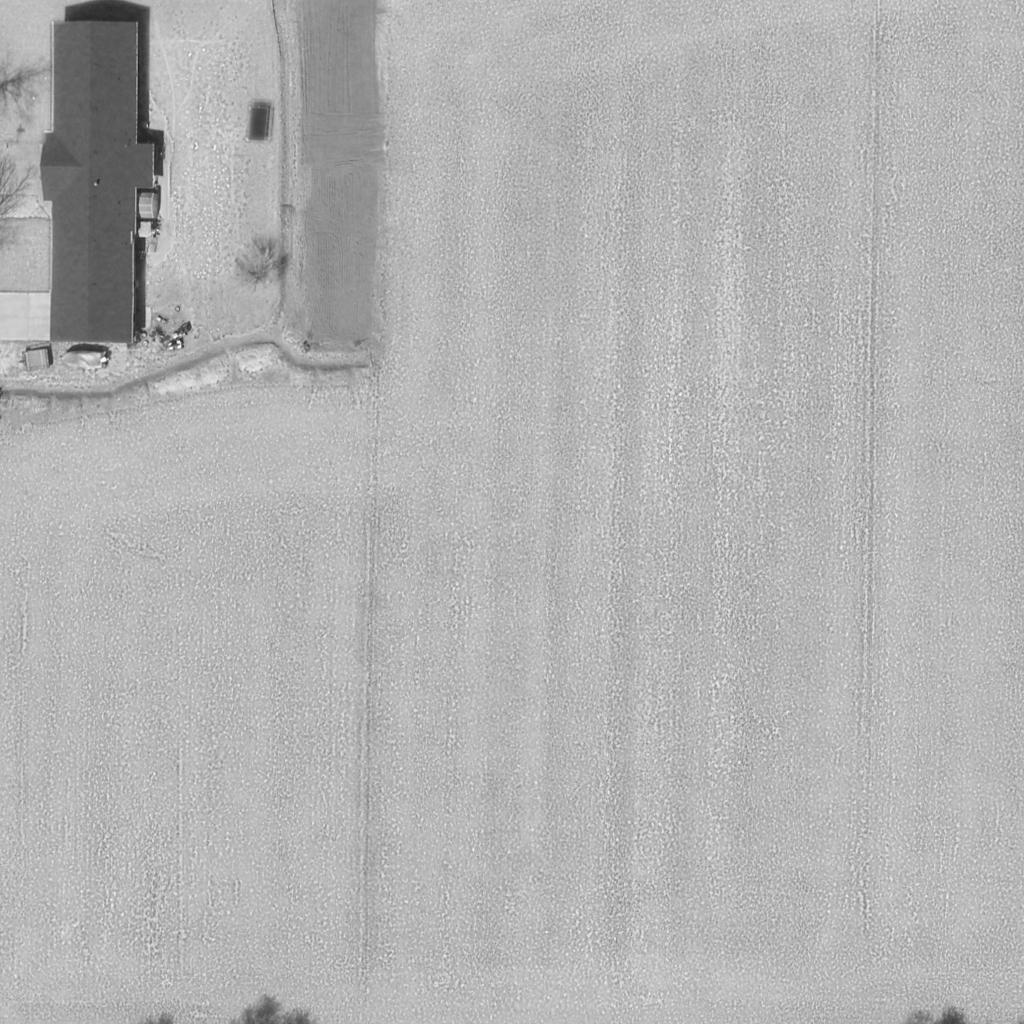vehicle: (59, 351, 105, 371)
